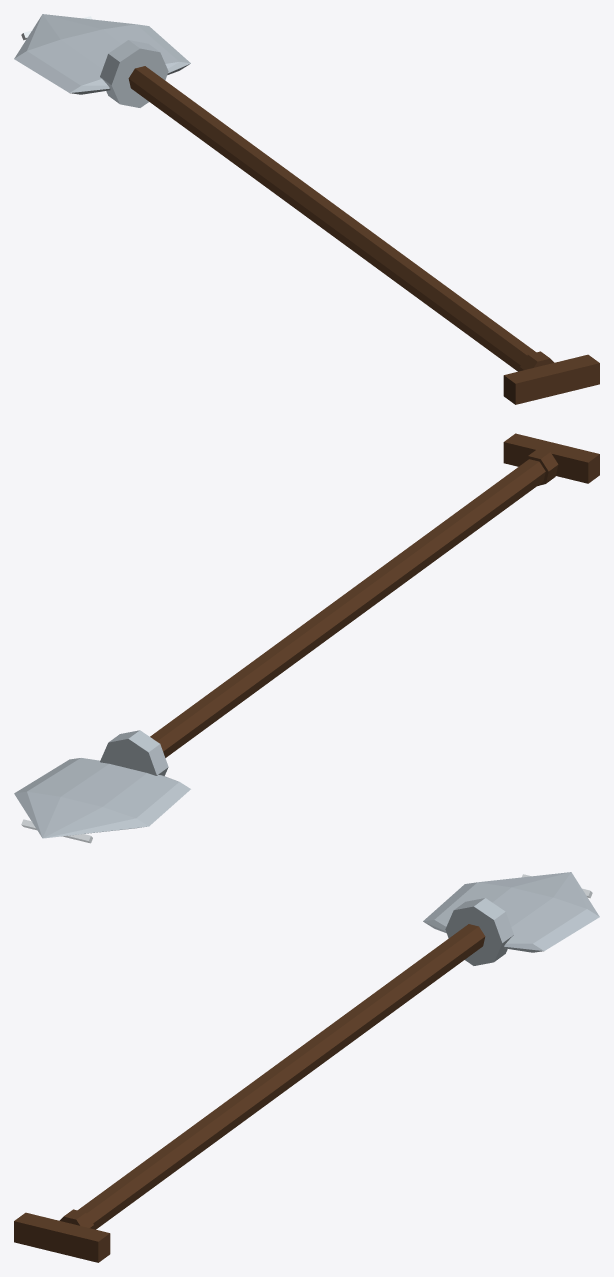
File: Tool_Shovel_Steel.fbx
The picture shows the model from 3 angles, top to bottom: view 1: azimuth 30°, elevation 25°; view 2: azimuth 150°, elevation 25°; view 3: azimuth 330°, elevation 25°; orthographic projection.
Visible parts, largest first — view 1: Tool_Shovel_Steel; view 2: Tool_Shovel_Steel; view 3: Tool_Shovel_Steel.
Part boxes in pixels (<box>): Tool_Shovel_Steel: <box>14,14,599,404</box>; Tool_Shovel_Steel: <box>14,433,599,843</box>; Tool_Shovel_Steel: <box>14,872,599,1262</box>.
Bounding box in the file's own units: 8 × 3.38 × 52.8.
